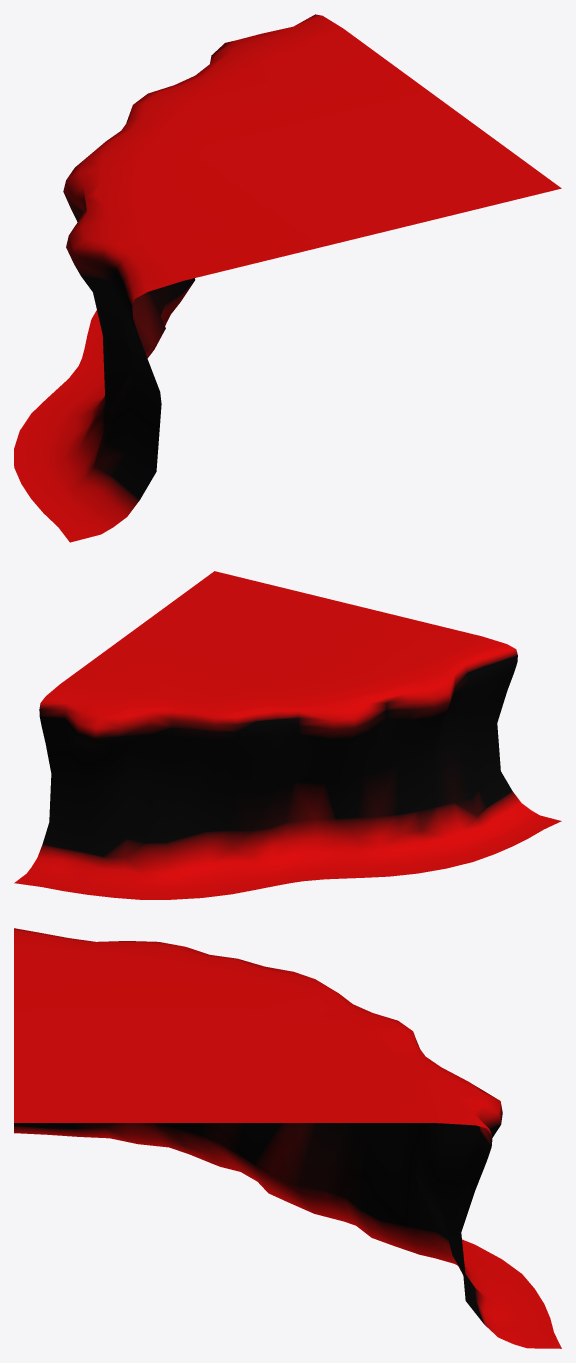
Rendered from GroundCliff03C 1M Background.fbx.
3 views of the same model, one above another, from view 1: azimuth 30°, elevation 25°; view 2: azimuth 150°, elevation 25°; view 3: azimuth 270°, elevation 25° (orthographic). The views are drawn at different scales.
Parts seen in each view (by area): view 1: GroundCliff03C 1M Background; view 2: GroundCliff03C 1M Background; view 3: GroundCliff03C 1M Background.
Part boxes in pixels (box(x1,y1,x2,y2)): GroundCliff03C 1M Background: box(14, 14, 561, 542); GroundCliff03C 1M Background: box(14, 571, 561, 899); GroundCliff03C 1M Background: box(14, 928, 561, 1348).
Size of the model in its own units: 2.2 by 1 by 2.2.
